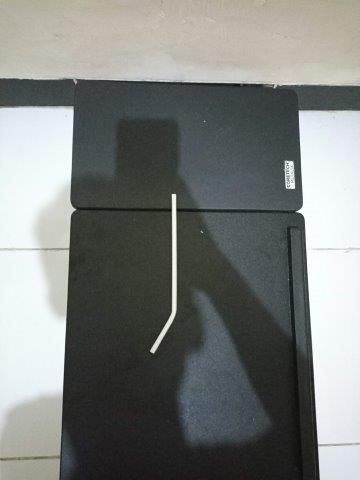sedotan: (149, 193, 177, 353)
